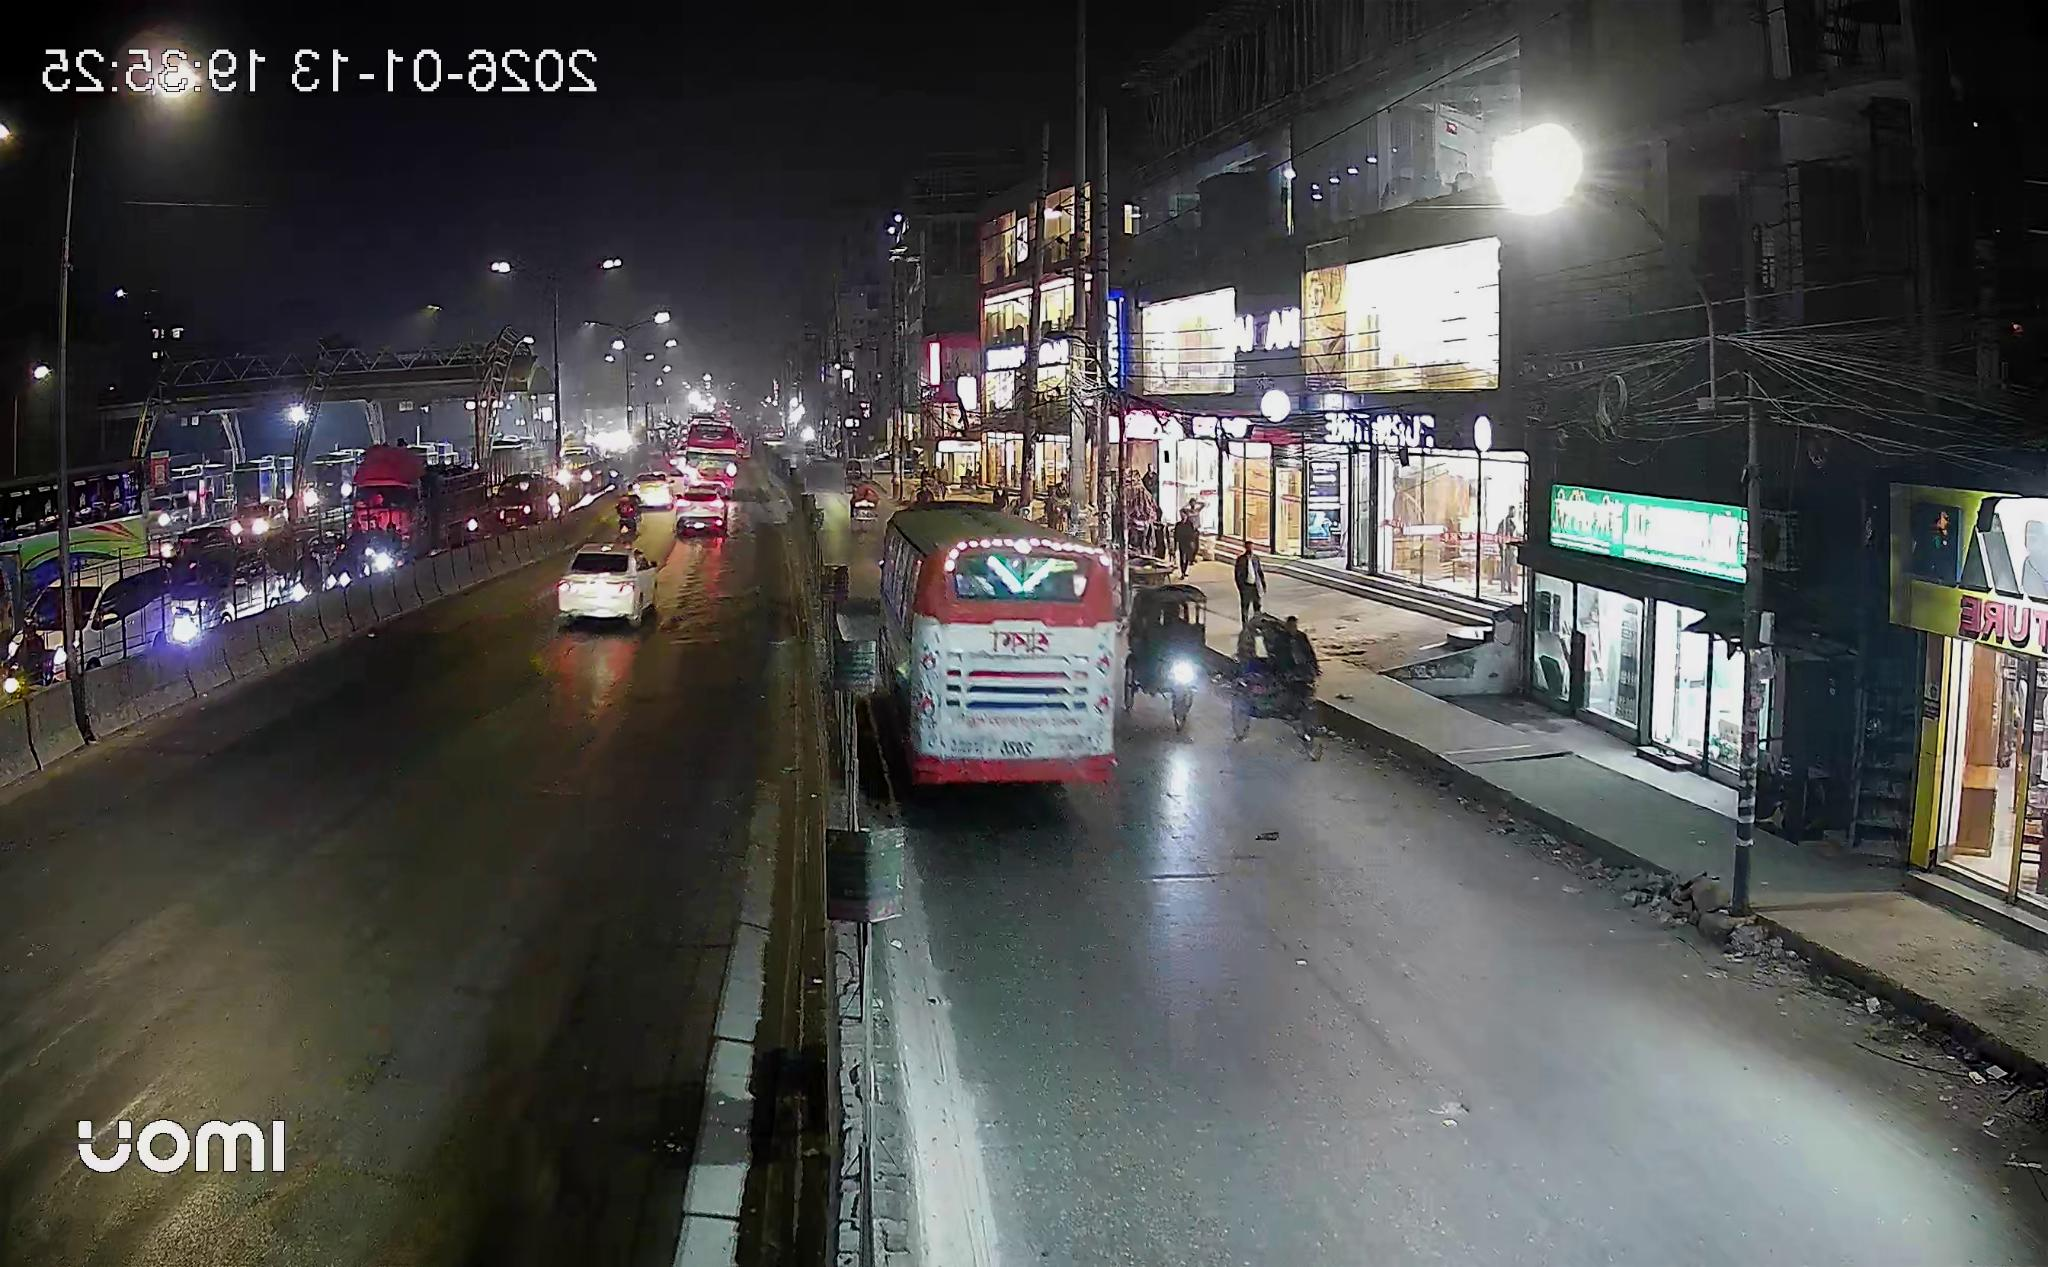Bus: (875, 500, 1126, 786)
Cycle Rickshaw: (1125, 582, 1321, 759)
Trailer: (557, 543, 657, 626)
